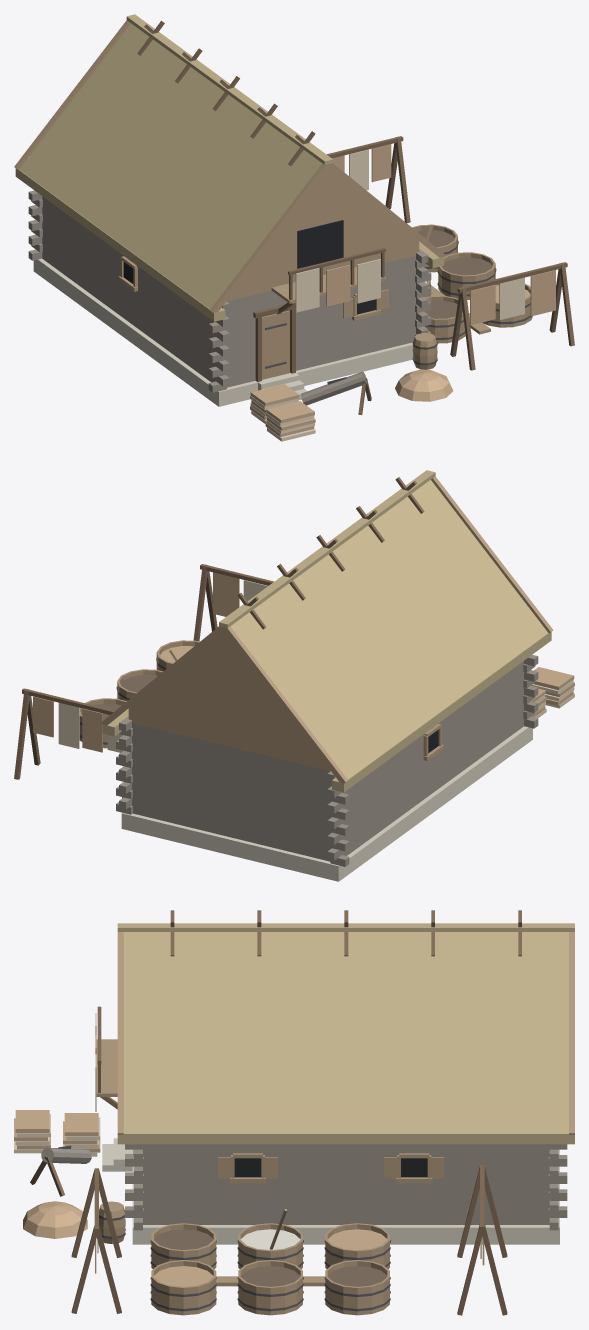
Rendered from house_tanner.glb.
The picture shows the model from 3 angles, top to bottom: view 1: azimuth 30°, elevation 25°; view 2: azimuth 150°, elevation 25°; view 3: azimuth 270°, elevation 25°; orthographic projection. The views are drawn at different scales.
Parts seen in each view (by area): view 1: HouseTanner; view 2: HouseTanner; view 3: HouseTanner.
Part boxes in pixels (<box>): HouseTanner: <box>14,14,574,441</box>; HouseTanner: <box>14,470,574,881</box>; HouseTanner: <box>14,910,574,1315</box>.
Size of the model in its own units: 12.26 by 7.96 by 14.84.
